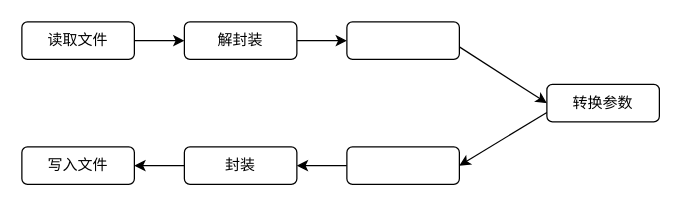
This 681x206 diagram has some shape labels left out. The centre of each missing label's shape, as x and y in pixels:
新编码: (402,165)
解码: (402,40)
